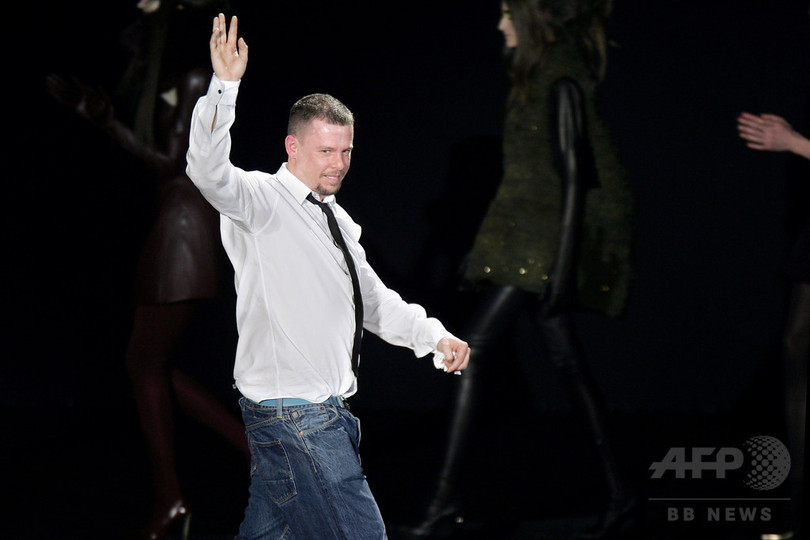face: (285, 118, 353, 195)
hand: (208, 13, 249, 81), (737, 110, 793, 151), (436, 335, 472, 374)
